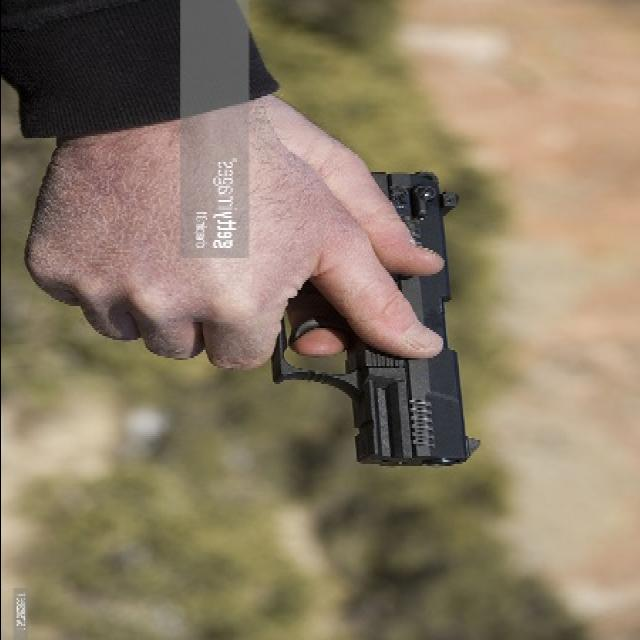handgun: (274, 155, 493, 499)
